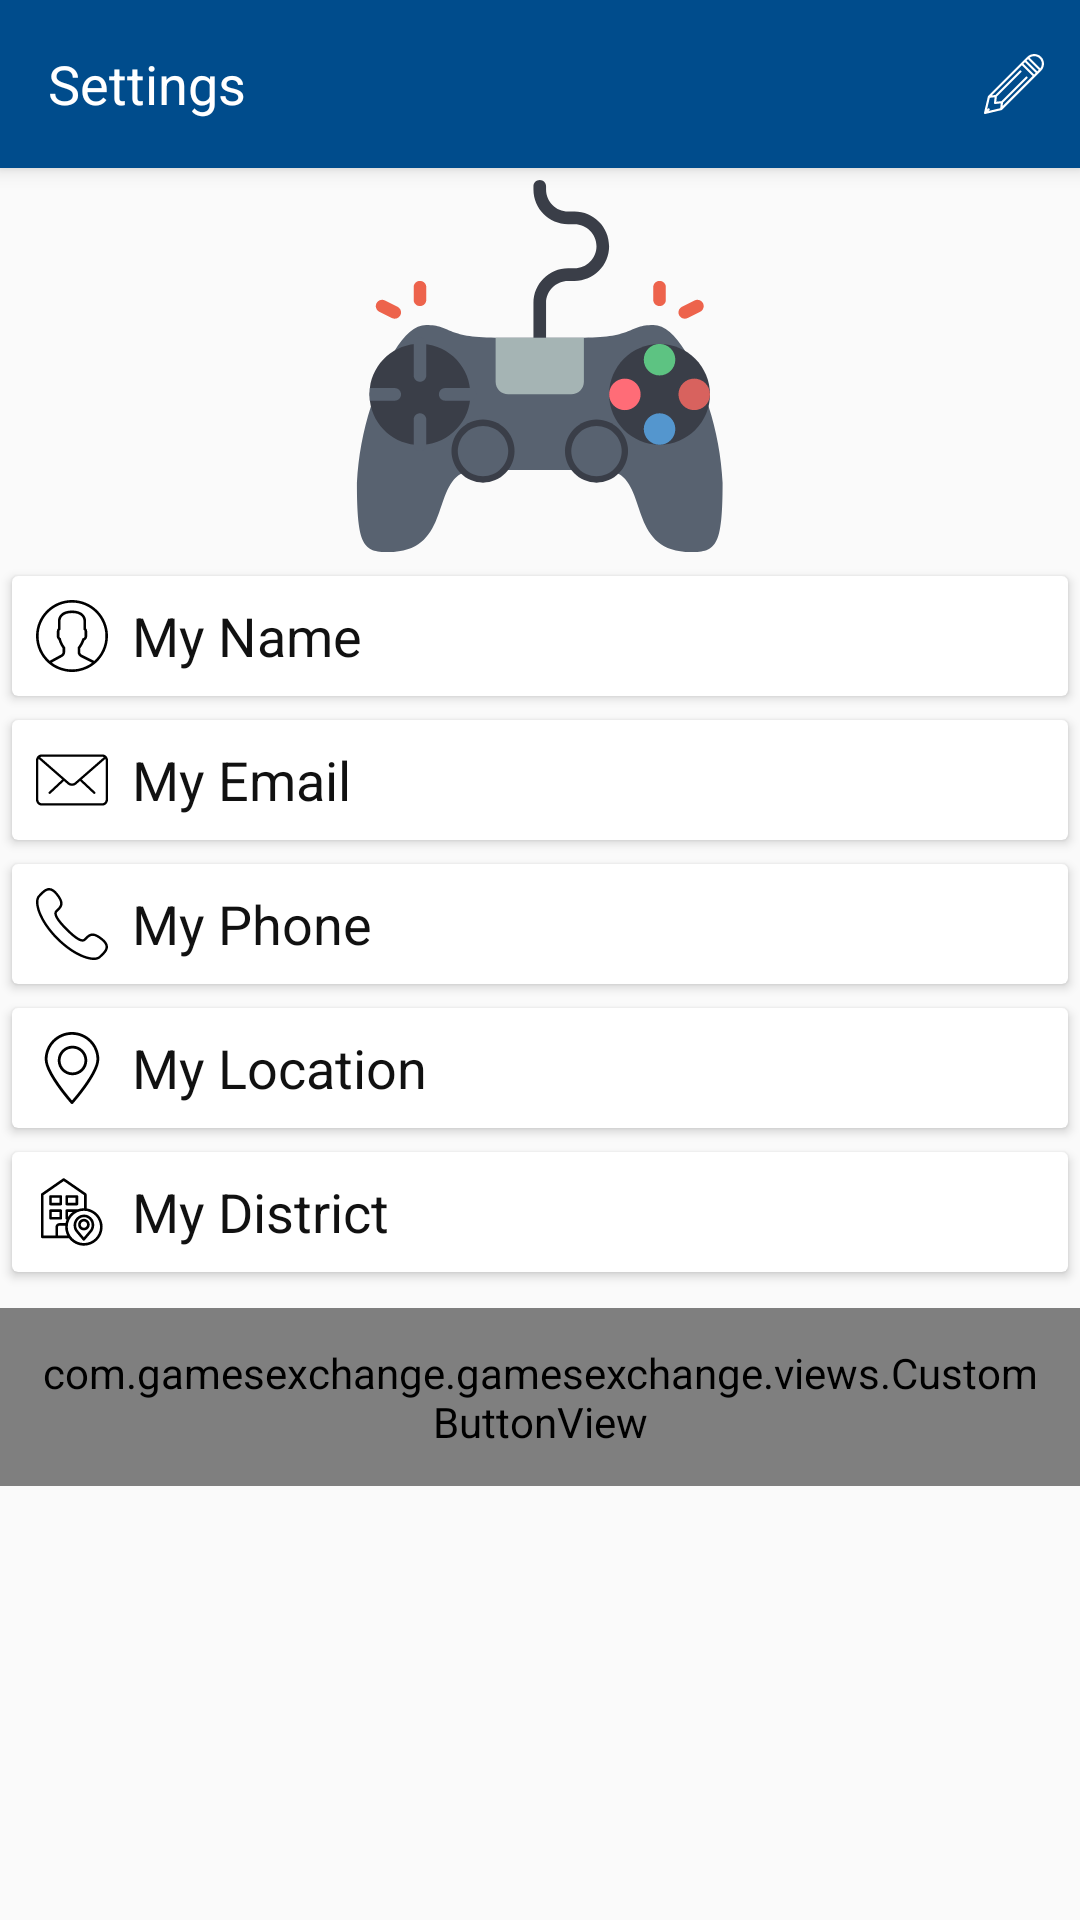

Named icons in this screenshot (1080*1920) and their bounding boxes, box=[x1, y1, x2, y2]:
edit: box=[984, 54, 1044, 114]
phone call: box=[36, 888, 108, 960]
pin: box=[44, 1032, 100, 1104]
user: box=[12, 578, 108, 672]
